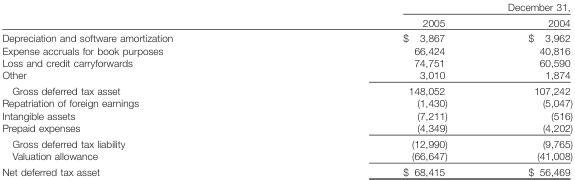table: (1, 0, 572, 177)
table column: (1, 0, 287, 177), (287, 0, 487, 177), (487, 0, 572, 177)
table column header: (1, 0, 572, 29)
table row: (1, 14, 572, 29), (1, 0, 572, 14), (1, 29, 572, 43), (1, 68, 572, 82), (1, 82, 572, 96), (1, 121, 572, 135), (1, 135, 572, 149), (1, 149, 572, 163), (1, 163, 572, 177), (1, 43, 572, 56), (1, 108, 572, 121), (1, 56, 572, 68), (1, 96, 572, 108)
table spanning cell: (287, 0, 572, 14)
